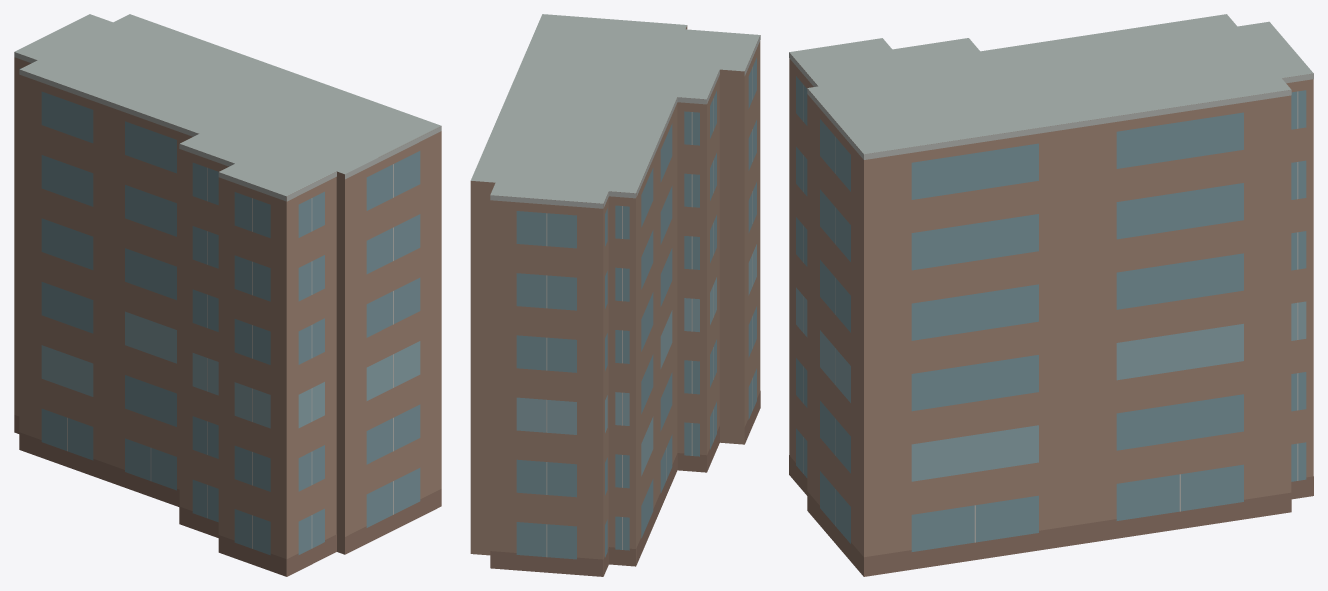
Rendered from survey-upis-32621776.glb.
3 views of the same model, side by side, from view 1: azimuth 30°, elevation 25°; view 2: azimuth 150°, elevation 25°; view 3: azimuth 270°, elevation 25° (orthographic). The views are drawn at different scales.
Parts seen in each view (by area): view 1: survey-upis-32621776.tmp; view 2: survey-upis-32621776.tmp; view 3: survey-upis-32621776.tmp.
Part boxes in pixels (x1,y1,x2,y2): survey-upis-32621776.tmp: (14,14,441,576); survey-upis-32621776.tmp: (470,14,760,576); survey-upis-32621776.tmp: (789,14,1313,576).
Bounding box in the file's own units: 12.72 × 17.85 × 20.09.
